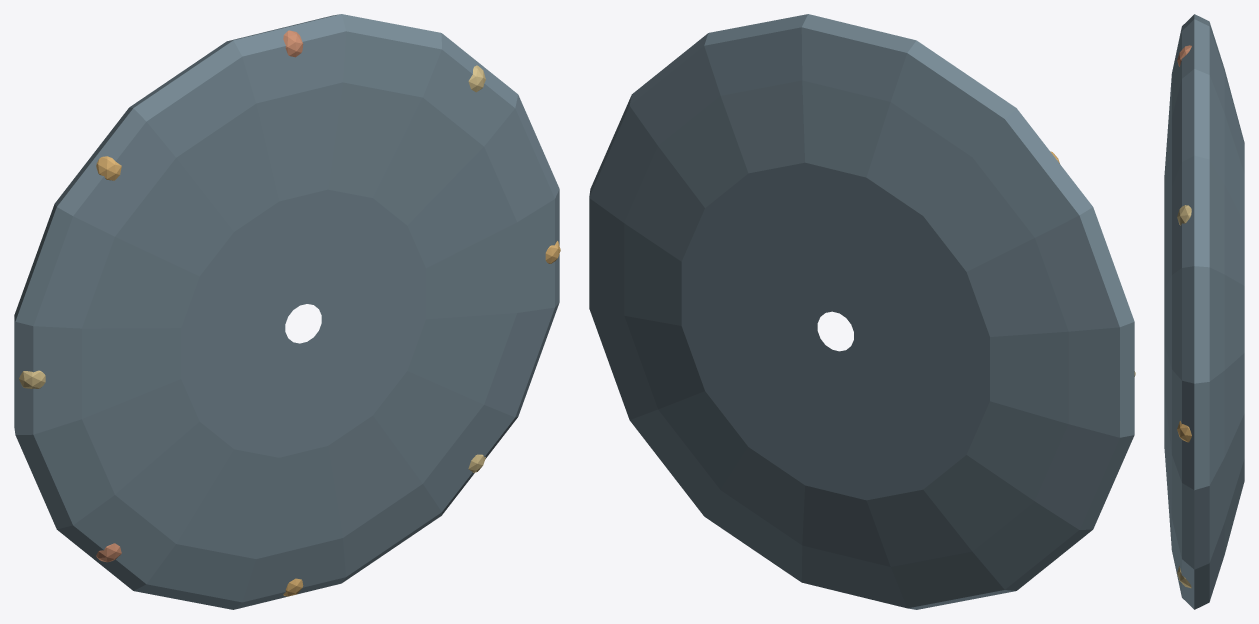
The model's file is ufo_simple.glb.
3 views of the same model, side by side, from view 1: azimuth 30°, elevation 25°; view 2: azimuth 150°, elevation 25°; view 3: azimuth 270°, elevation 25° (orthographic). The views are drawn at different scales.
Visible parts, largest first — view 1: Saucer_Hull; view 2: Saucer_Hull; view 3: Saucer_Hull, Rim_Light_2, Rim_Light_1, Rim_Light_3.
Boxes of the visible parts, <box> form: Saucer_Hull: <box>14,14,559,609</box>; Saucer_Hull: <box>589,14,1134,609</box>; Saucer_Hull: <box>1164,14,1244,609</box>; Rim_Light_2: <box>1177,205,1191,225</box>; Rim_Light_1: <box>1177,421,1191,442</box>; Rim_Light_3: <box>1177,45,1191,66</box>.
Bounding box in the file's own units: 2.35 × 2.35 × 0.32.
